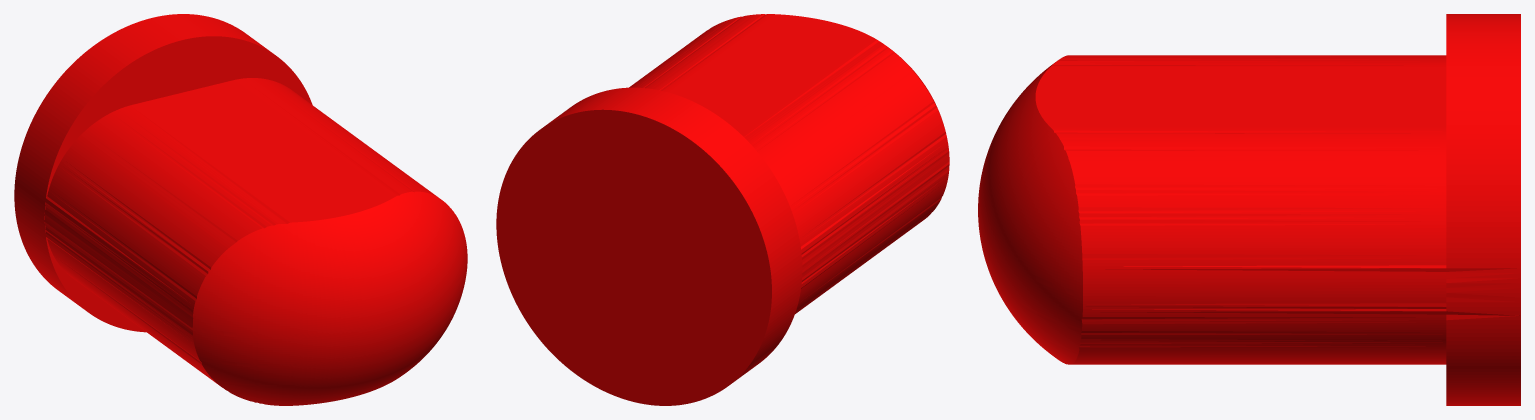
The picture shows the model from 3 angles, left to right: view 1: azimuth 30°, elevation 25°; view 2: azimuth 150°, elevation 25°; view 3: azimuth 270°, elevation 25°; orthographic projection. The views are drawn at different scales.
Visible parts, largest first — view 1: link3.glb; view 2: link3.glb; view 3: link3.glb.
Boxes of the visible parts, x1,y1,x2,y2 form: link3.glb: (14,14,467,405); link3.glb: (496,14,949,405); link3.glb: (978,14,1520,405).
Bounding box in the file's own units: 110 × 110 × 152.
